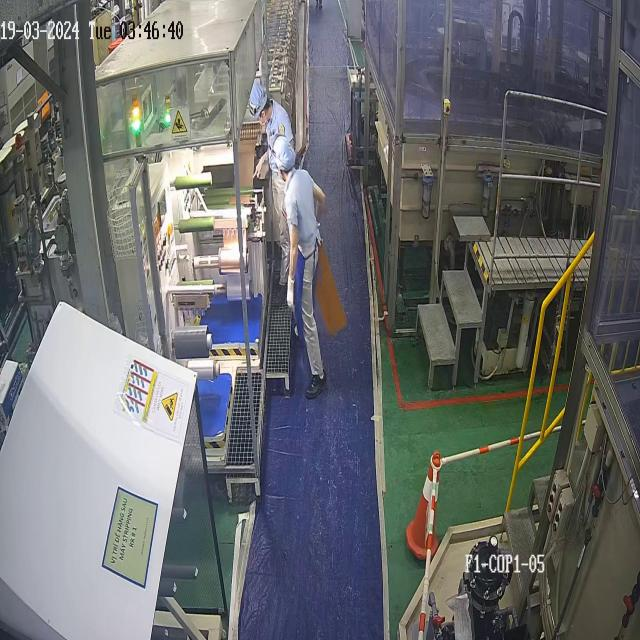Person: (272, 134, 327, 399), (247, 80, 296, 286)
